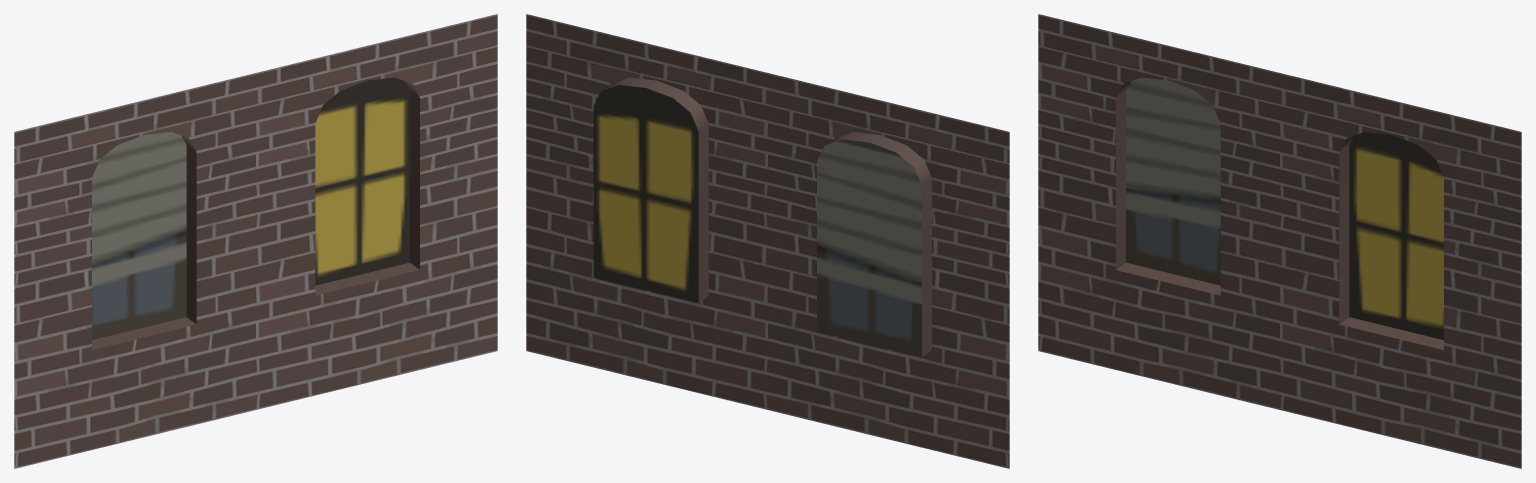
File: Bock_E4(1).fbx
3 views of the same model, side by side, from view 1: azimuth 30°, elevation 25°; view 2: azimuth 150°, elevation 25°; view 3: azimuth 330°, elevation 25° (orthographic).
Parts seen in each view (by area): view 1: Bock_E4; view 2: Bock_E4; view 3: Bock_E4.
Boxes of the visible parts, bbox=[...] form: Bock_E4: bbox=[14, 14, 497, 468]; Bock_E4: bbox=[526, 14, 1009, 468]; Bock_E4: bbox=[1038, 14, 1521, 468].
Size of the model in its own units: 600 by 400 by 21.94.
